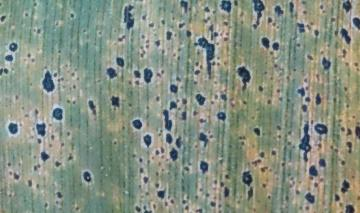tarspot: (196, 35, 216, 80), (297, 121, 313, 165), (38, 66, 57, 95), (234, 64, 252, 94), (250, 1, 266, 32), (120, 2, 136, 32), (160, 107, 175, 133), (86, 98, 99, 120), (51, 106, 66, 123), (6, 120, 20, 138), (339, 27, 352, 46), (197, 131, 210, 150), (142, 66, 154, 86), (34, 122, 48, 139), (240, 170, 254, 187), (217, 1, 234, 15), (313, 122, 328, 137), (104, 64, 117, 81), (168, 146, 180, 164), (303, 191, 318, 205), (349, 14, 360, 33), (259, 36, 272, 52), (109, 95, 121, 112), (194, 91, 206, 108), (142, 133, 154, 150), (340, 177, 351, 195), (341, 1, 355, 15), (81, 168, 94, 183), (197, 160, 210, 175), (178, 1, 191, 16), (273, 3, 285, 19), (344, 141, 356, 157), (39, 149, 51, 164), (7, 41, 22, 53), (295, 20, 307, 35), (131, 118, 143, 132), (307, 164, 319, 178), (320, 55, 331, 70), (207, 23, 215, 43), (115, 55, 126, 69), (163, 133, 174, 147), (174, 134, 184, 149), (353, 123, 360, 144), (168, 83, 180, 95), (168, 98, 179, 111), (252, 126, 262, 140), (343, 203, 357, 213), (223, 184, 231, 201), (138, 44, 146, 61), (215, 110, 227, 121), (155, 188, 166, 200), (317, 156, 327, 169), (314, 91, 322, 107), (246, 186, 254, 202), (272, 40, 281, 54), (3, 53, 17, 62), (344, 126, 353, 140), (155, 68, 166, 79), (328, 143, 339, 154), (116, 34, 128, 44), (288, 1, 295, 18), (164, 30, 173, 43), (12, 169, 21, 182), (317, 3, 326, 16), (340, 47, 349, 60), (179, 109, 187, 123), (259, 165, 273, 173), (332, 23, 340, 37), (132, 69, 142, 80), (295, 86, 306, 96), (142, 203, 153, 213), (219, 93, 230, 103), (53, 158, 62, 170), (180, 164, 192, 173), (305, 52, 314, 64), (1, 13, 8, 28), (315, 138, 322, 153), (54, 189, 65, 198), (180, 97, 189, 108), (177, 19, 186, 30), (250, 158, 261, 167), (26, 178, 34, 190), (352, 61, 360, 73), (32, 163, 41, 173), (332, 191, 341, 201), (152, 94, 162, 103), (35, 26, 44, 36), (197, 116, 208, 124), (67, 151, 74, 163), (300, 104, 309, 113), (153, 38, 162, 47), (29, 56, 38, 65), (147, 19, 155, 29), (258, 150, 266, 160), (301, 8, 309, 18), (33, 106, 40, 117), (313, 72, 320, 83), (284, 193, 291, 204), (202, 6, 211, 14), (13, 92, 21, 101), (142, 175, 150, 184), (134, 204, 142, 213), (257, 85, 265, 94), (190, 109, 199, 117), (312, 29, 321, 37), (294, 189, 302, 198), (25, 51, 33, 60), (35, 138, 44, 146), (210, 199, 217, 209), (270, 147, 277, 157), (35, 181, 41, 192), (194, 207, 205, 213), (65, 130, 73, 138), (159, 17, 167, 25), (153, 170, 161, 178), (339, 159, 347, 167), (341, 85, 349, 93), (174, 75, 182, 83), (43, 200, 50, 209), (304, 95, 311, 104), (3, 67, 10, 76), (140, 13, 149, 20), (138, 166, 145, 175), (169, 197, 176, 206), (224, 172, 231, 181), (194, 193, 201, 202), (318, 175, 325, 184), (70, 99, 77, 108), (58, 75, 67, 82), (278, 160, 287, 167), (207, 99, 216, 106), (143, 190, 152, 197), (48, 133, 57, 140), (266, 96, 272, 106), (185, 28, 191, 38), (160, 146, 166, 156), (344, 59, 350, 69), (68, 12, 75, 20), (112, 138, 119, 146), (193, 68, 200, 76), (180, 197, 188, 204), (330, 15, 337, 23), (154, 149, 161, 157), (212, 178, 219, 186), (204, 191, 212, 198), (266, 193, 273, 201), (261, 182, 269, 189), (312, 181, 319, 189), (295, 41, 302, 49), (71, 84, 78, 92), (302, 76, 309, 84), (213, 92, 220, 100), (221, 59, 228, 67), (133, 80, 141, 87), (145, 104, 152, 112), (208, 132, 215, 140), (126, 102, 135, 108), (120, 123, 126, 132), (127, 78, 133, 87), (285, 130, 295, 135), (183, 204, 190, 211), (241, 99, 248, 106), (154, 181, 161, 188), (192, 79, 199, 86), (59, 140, 66, 147), (222, 36, 230, 42), (54, 20, 60, 28), (70, 71, 76, 79), (97, 29, 103, 37), (238, 134, 246, 140), (275, 87, 283, 93), (286, 139, 292, 147), (24, 10, 29, 19), (340, 125, 345, 134), (220, 180, 225, 189), (356, 193, 360, 204), (74, 205, 81, 211), (214, 30, 220, 37), (233, 1, 239, 8), (7, 170, 13, 177), (162, 201, 168, 208), (272, 62, 278, 69), (277, 96, 284, 102), (275, 124, 281, 131), (198, 186, 204, 193), (53, 71, 59, 78), (268, 75, 275, 81), (160, 48, 166, 55), (177, 39, 183, 46), (266, 16, 271, 24), (345, 102, 350, 110), (22, 113, 30, 118), (284, 75, 292, 80), (46, 142, 54, 147), (222, 20, 228, 26), (137, 157, 143, 163), (144, 38, 150, 44), (177, 47, 183, 53), (193, 143, 199, 149), (292, 66, 297, 73), (172, 51, 177, 58), (193, 41, 198, 48), (1, 67, 4, 78), (57, 48, 61, 56), (350, 113, 354, 121), (272, 22, 277, 28), (6, 162, 12, 167), (131, 152, 136, 158), (145, 44, 151, 49), (140, 34, 146, 39), (240, 140, 245, 146), (217, 61, 222, 67), (176, 55, 181, 61), (194, 62, 199, 68), (263, 70, 268, 76), (277, 134, 283, 138)
